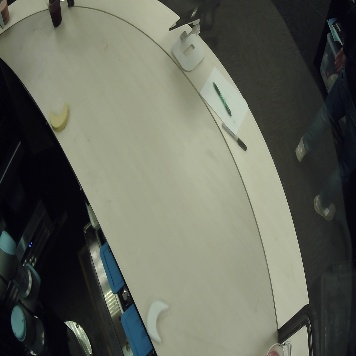full_cup: (45, 1, 65, 32), (1, 1, 14, 27)
puck: (145, 298, 173, 346), (48, 102, 75, 132)
